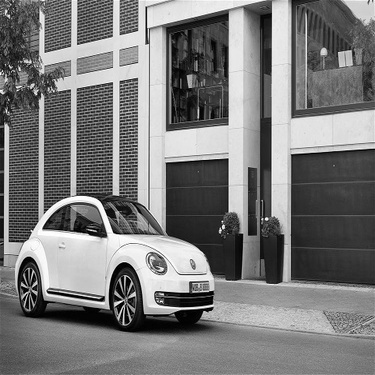car: (6, 185, 218, 330)
